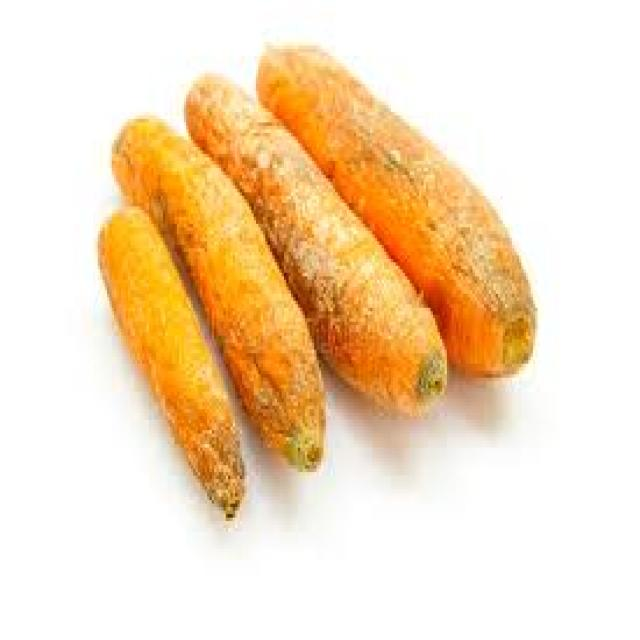Stale_Carrot: (190, 75, 446, 412), (113, 120, 325, 469), (99, 209, 244, 516)
